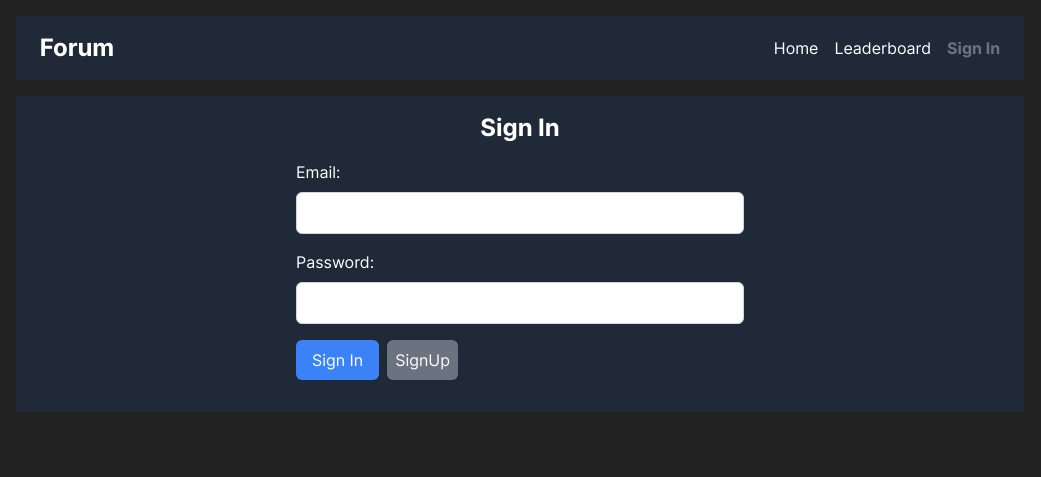
Test: Login spec test › Should show error message when login with incorrect format of email and password
This screenshot has width=1041, height=477.
Click the button "Sign In" at (338,360), box [296,340,379,380]
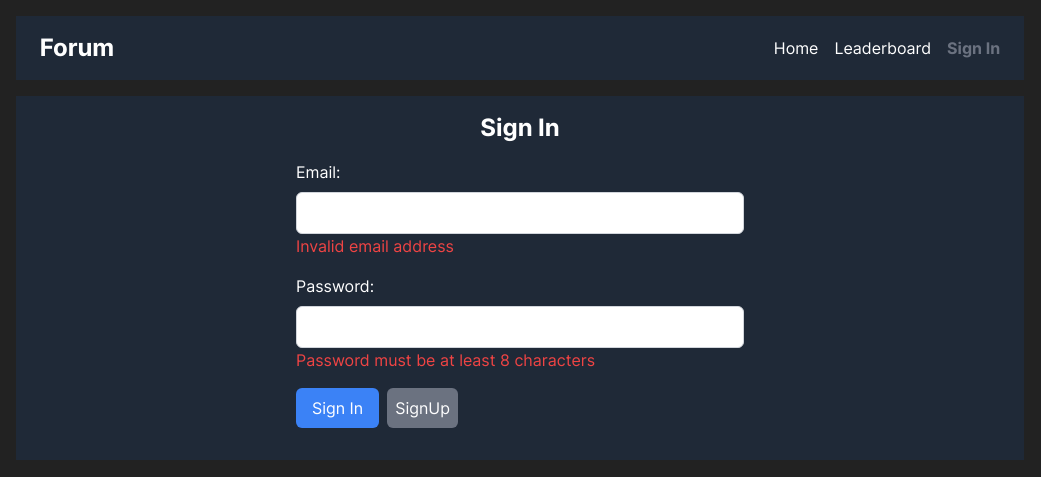
Check: the text "Invalid email address" is shown, box [296,236,454,256]
Check: the text "Password must be at least 8 characters" is shown, box [296,350,595,370]
